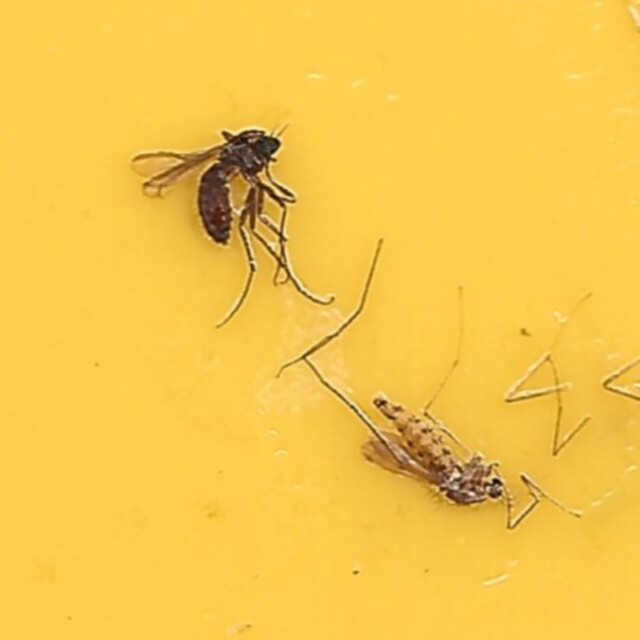Nematocera: (355, 384, 515, 519), (125, 121, 289, 249)
